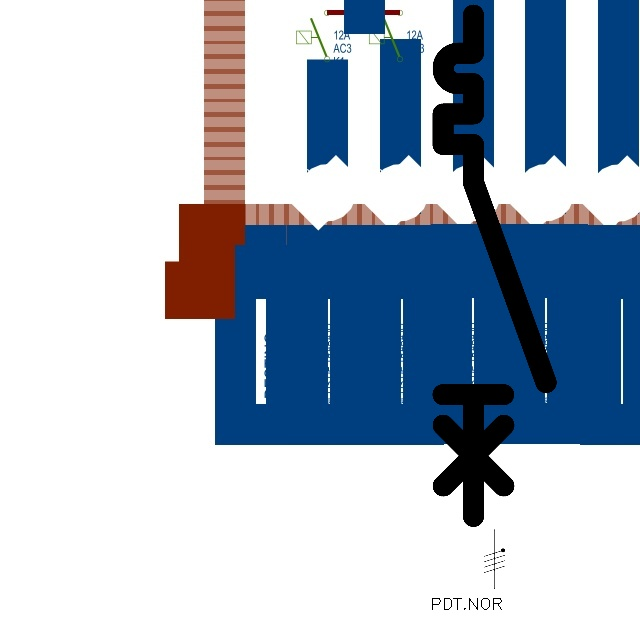interruptor_termomagnetico: (430, 2, 559, 530)
